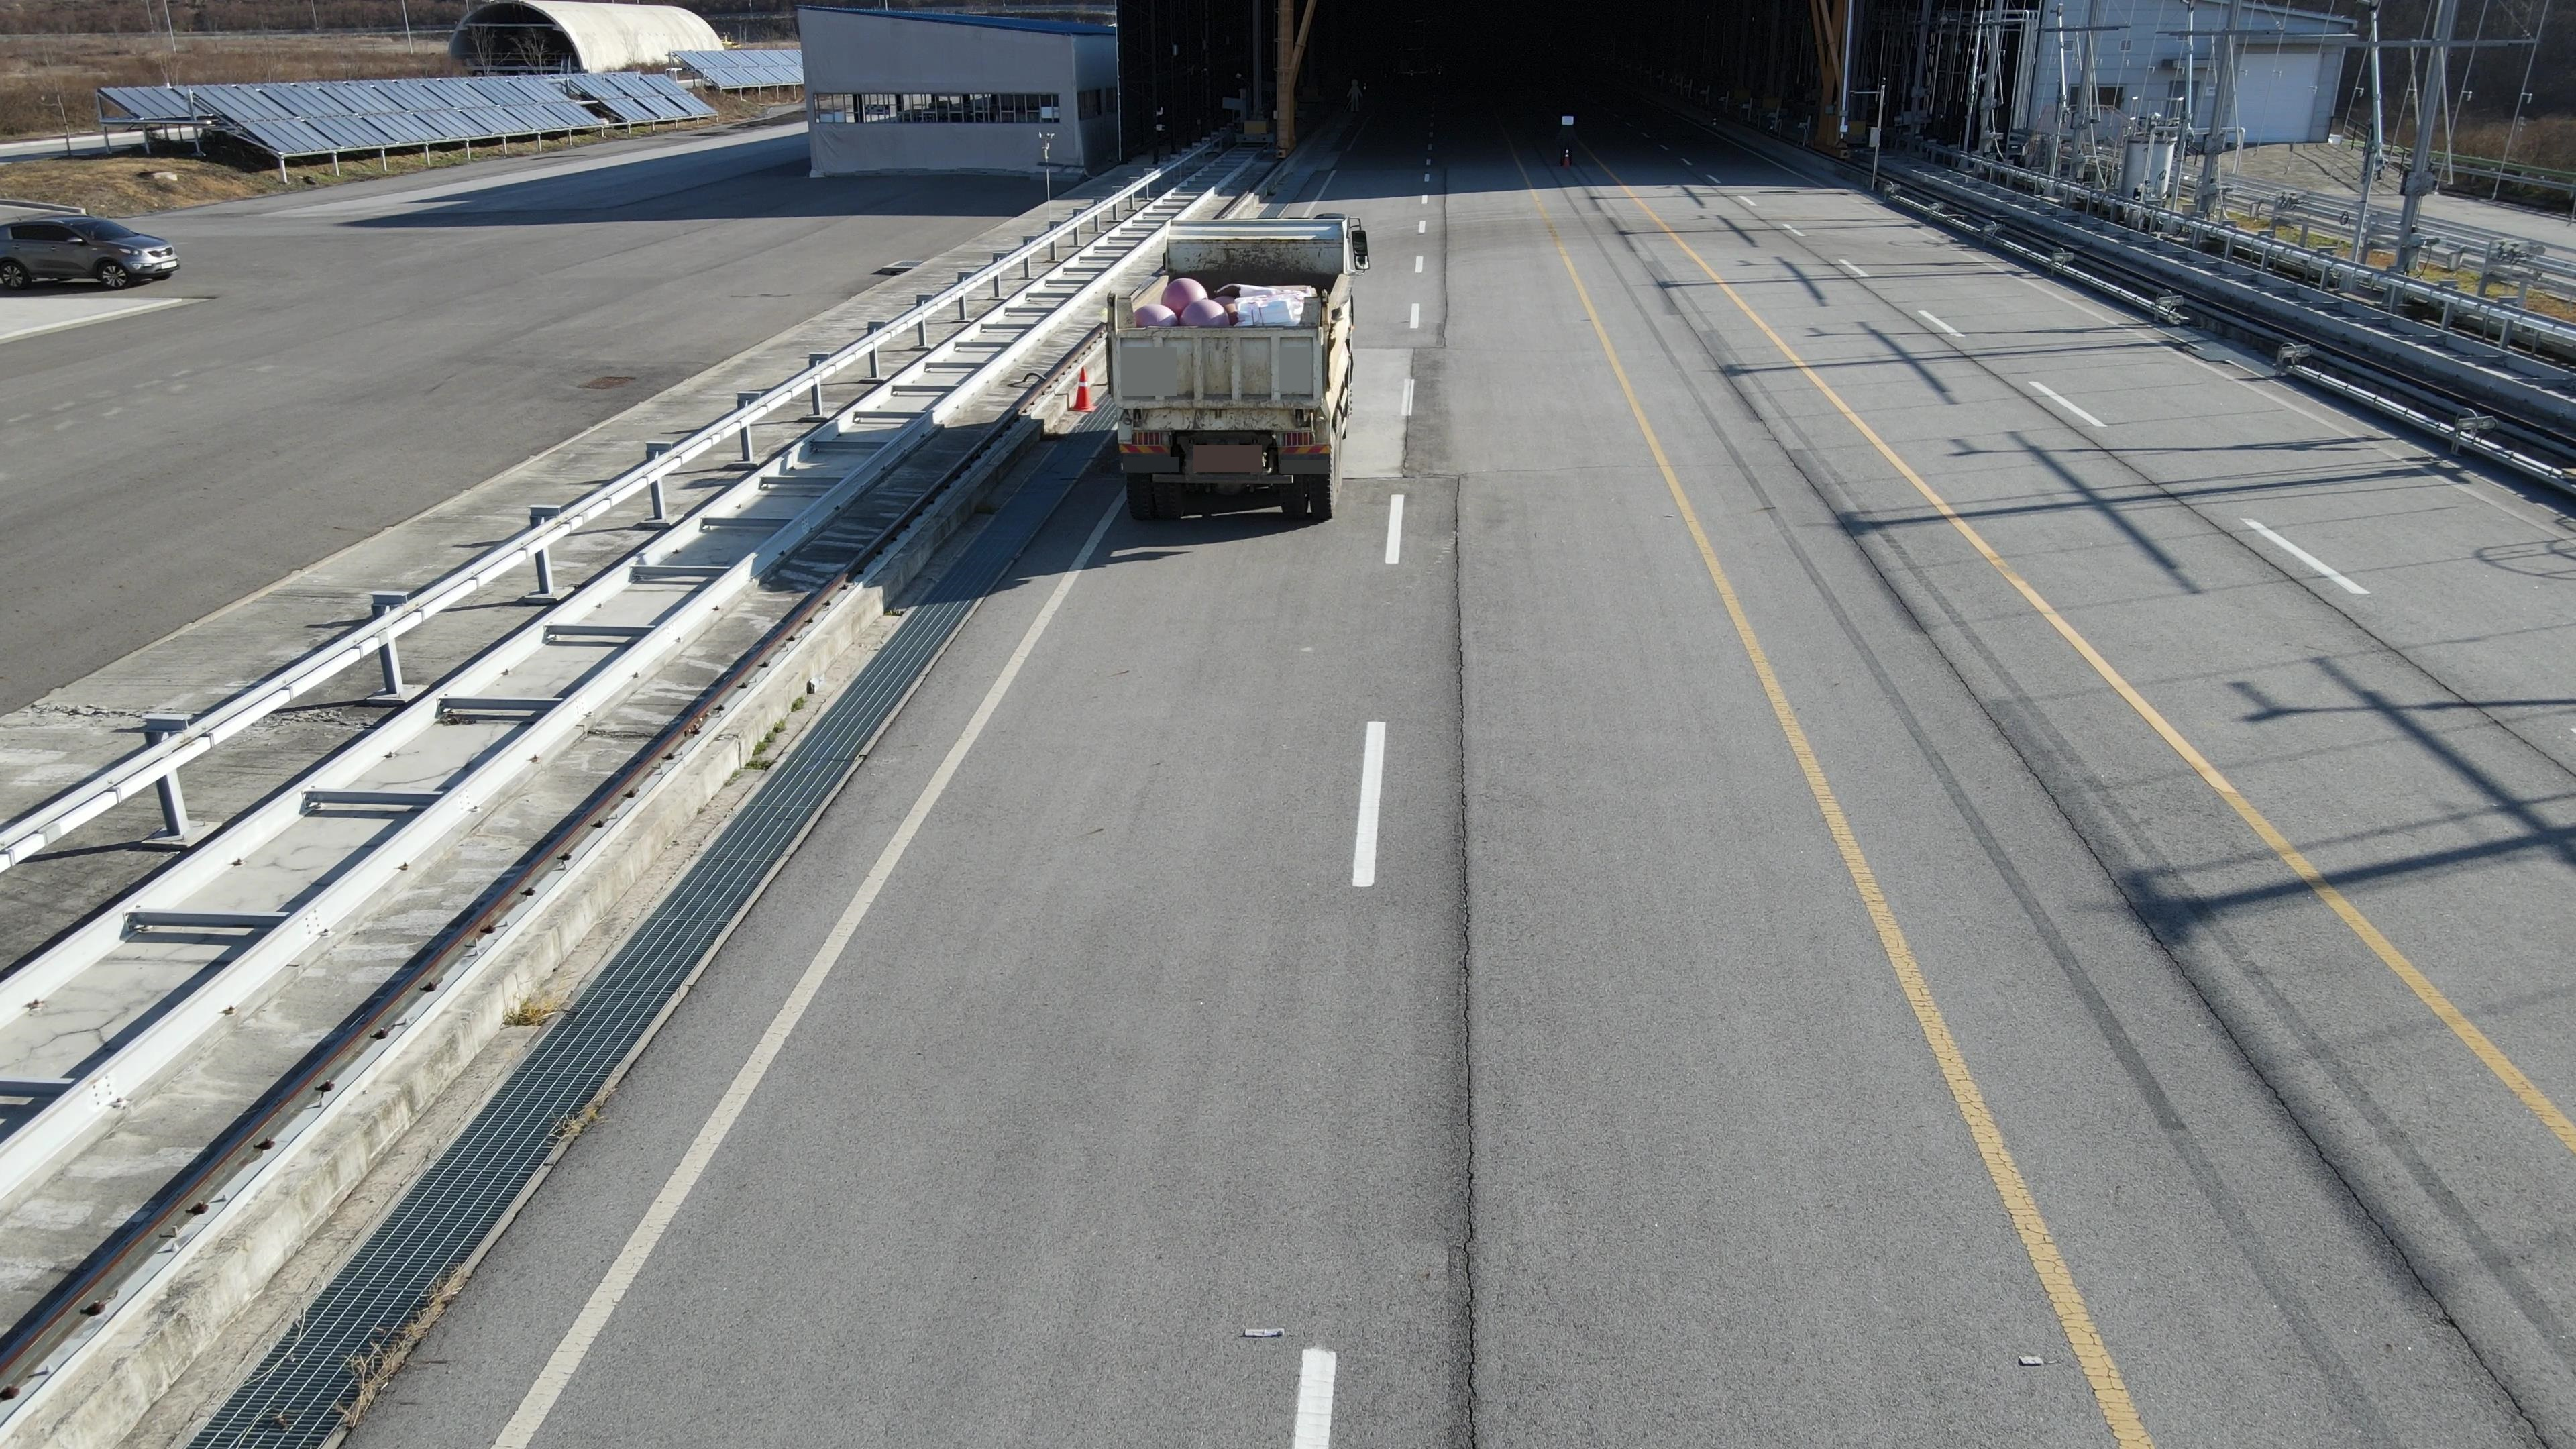불법차량: (1100, 212, 1371, 517)
